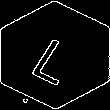L_NE: (26, 25, 84, 85)
